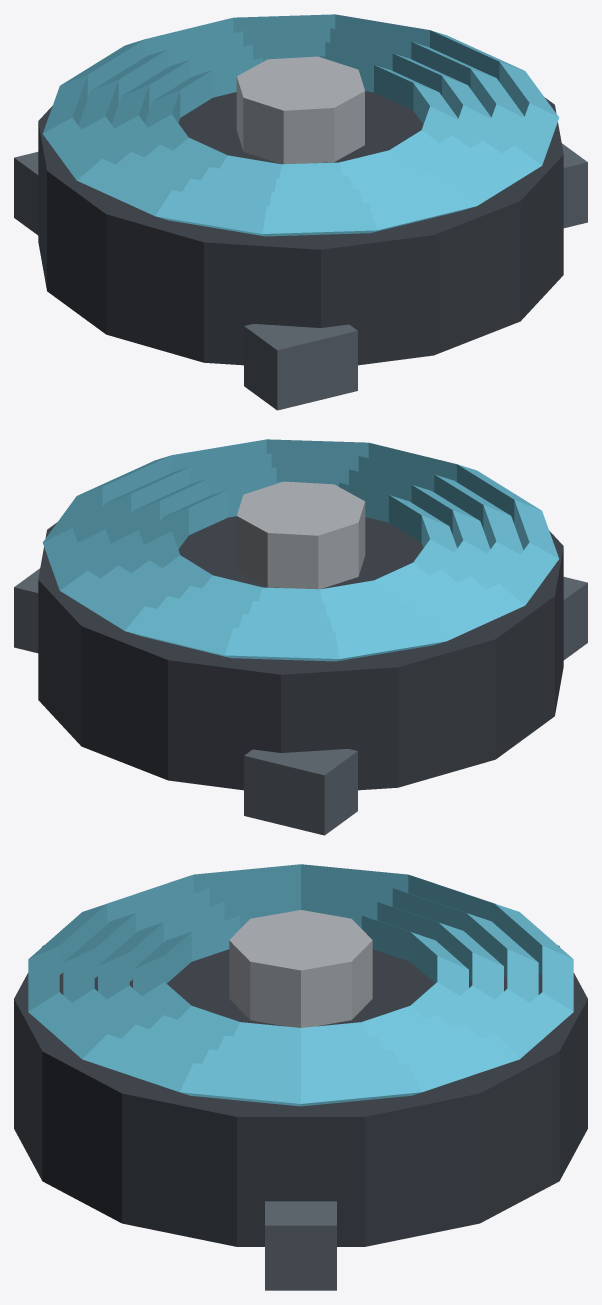
Rendered from droid-repulsor-lifts-superior.glb.
The picture shows the model from 3 angles, top to bottom: view 1: azimuth 30°, elevation 25°; view 2: azimuth 150°, elevation 25°; view 3: azimuth 270°, elevation 25°; orthographic projection. The views are drawn at different scales.
Parts seen in each view (by area): view 1: m; view 2: m; view 3: m.
Part boxes in pixels (x1,y1,x2,y2): m: (14, 14, 587, 410); m: (14, 439, 587, 835); m: (14, 864, 587, 1290).
Size of the model in its own units: 0.1 by 0.0372 by 0.093.
